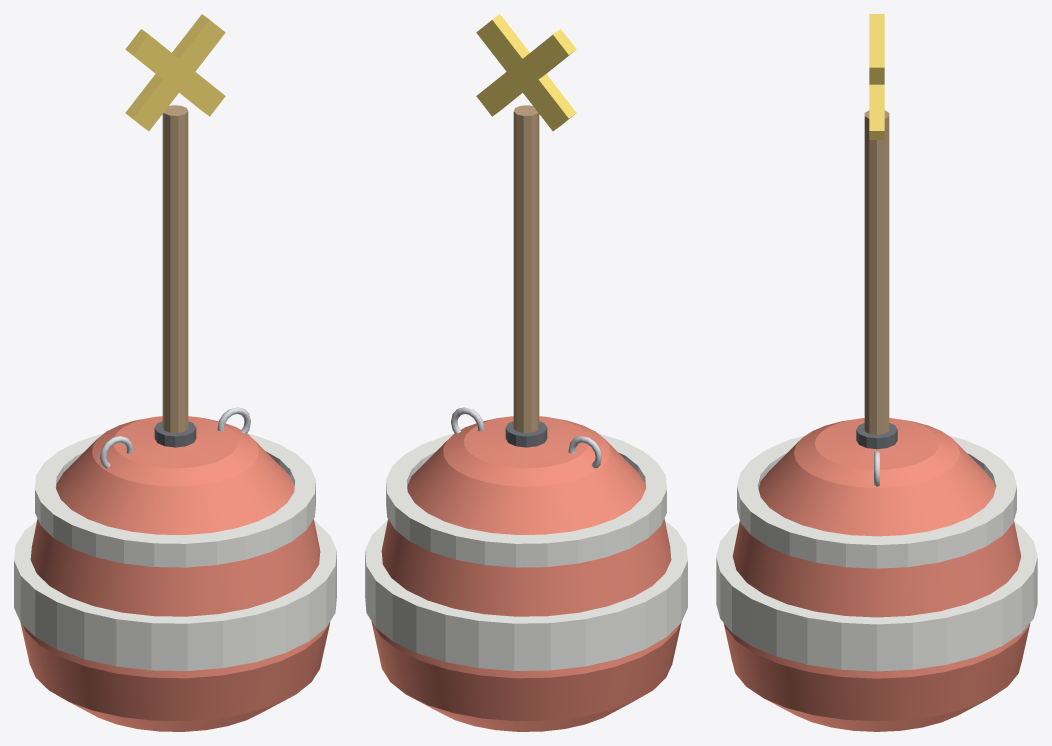
The model's file is beach-surf-and-paddle-kit-swim-zone-buoy-ec54d875.glb.
3 views of the same model, side by side, from view 1: azimuth 30°, elevation 25°; view 2: azimuth 150°, elevation 25°; view 3: azimuth 270°, elevation 25° (orthographic).
Visible parts, largest first — view 1: swim-zone-buoy-coral, swim-zone-buoy-foam, swim-zone-buoy-timber, swim-zone-buoy-sun, swim-zone-buoy-steel, swim-zone-buoy-charcoal; view 2: swim-zone-buoy-coral, swim-zone-buoy-foam, swim-zone-buoy-timber, swim-zone-buoy-sun, swim-zone-buoy-steel, swim-zone-buoy-charcoal; view 3: swim-zone-buoy-coral, swim-zone-buoy-foam, swim-zone-buoy-timber, swim-zone-buoy-sun, swim-zone-buoy-charcoal.
Boxes of the visible parts, x1,y1,x2,y2 form: swim-zone-buoy-coral: [20, 416, 330, 731]; swim-zone-buoy-foam: [14, 433, 336, 670]; swim-zone-buoy-timber: [162, 105, 188, 432]; swim-zone-buoy-sun: [125, 14, 225, 131]; swim-zone-buoy-steel: [100, 407, 250, 468]; swim-zone-buoy-charcoal: [154, 421, 196, 447]; swim-zone-buoy-coral: [371, 416, 681, 731]; swim-zone-buoy-foam: [365, 433, 687, 670]; swim-zone-buoy-timber: [513, 105, 539, 432]; swim-zone-buoy-sun: [476, 14, 576, 131]; swim-zone-buoy-steel: [451, 407, 601, 468]; swim-zone-buoy-charcoal: [505, 421, 547, 447]; swim-zone-buoy-coral: [723, 418, 1030, 731]; swim-zone-buoy-foam: [716, 435, 1037, 671]; swim-zone-buoy-timber: [864, 110, 889, 434]; swim-zone-buoy-sun: [869, 14, 884, 139]; swim-zone-buoy-charcoal: [856, 423, 897, 449].
Size of the model in its own units: 0.62 by 1.44 by 0.62.
